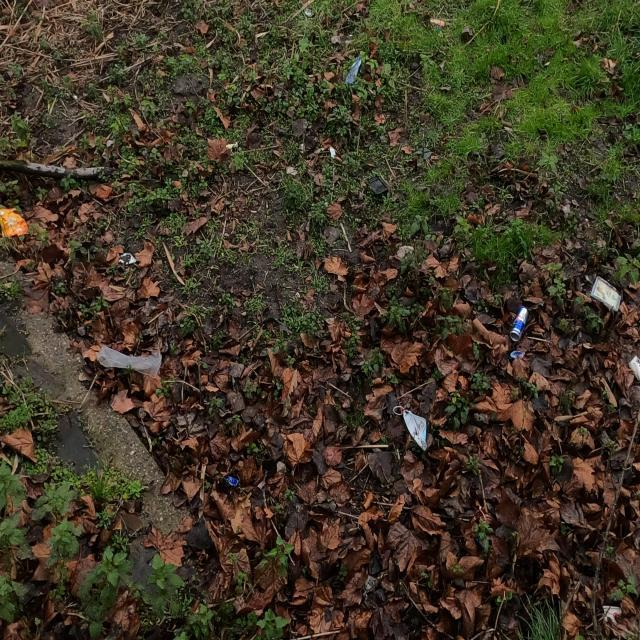Can-Metal: (508, 302, 534, 349)
Mask: (389, 394, 437, 452)
